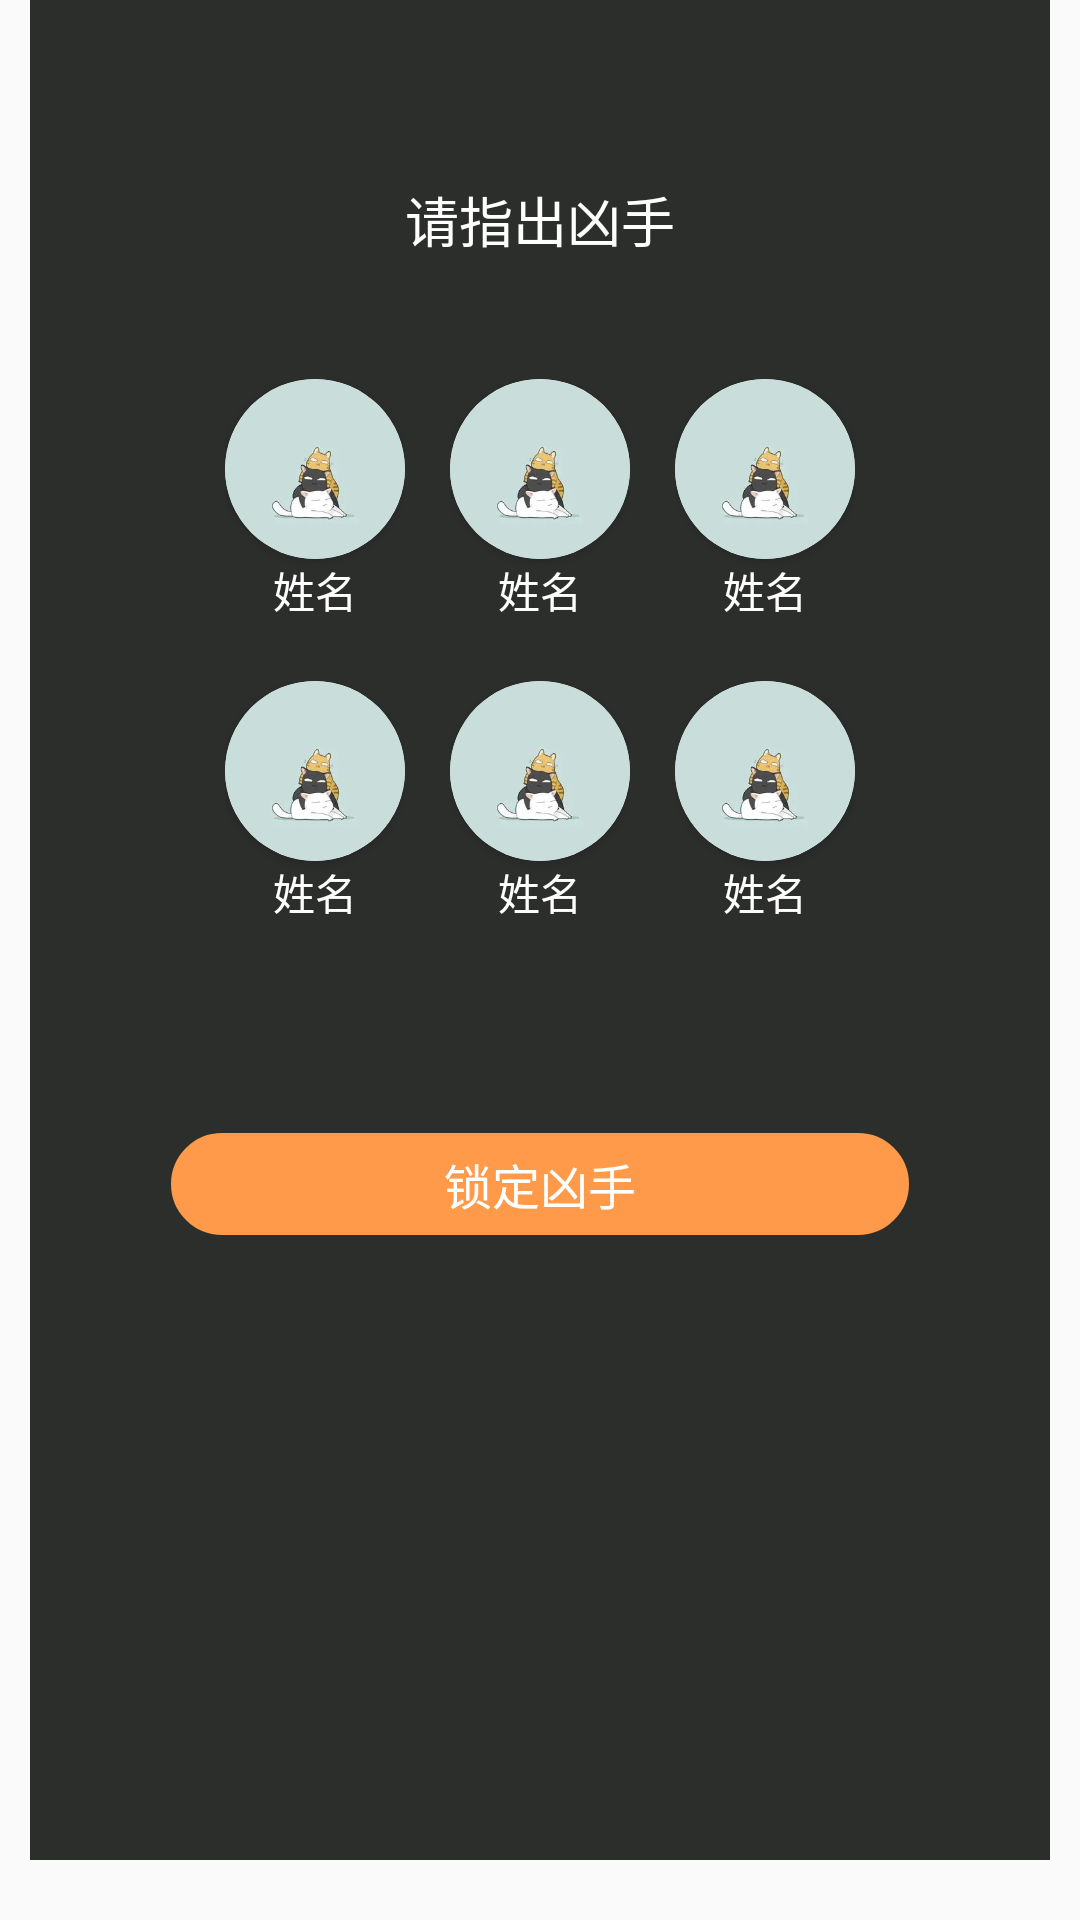

Screen size 1080*1920. Icon name, then its center in pixels as (x,y):
cat: (315,469), (540,469), (765,469), (315,771), (540,771), (765,771)
